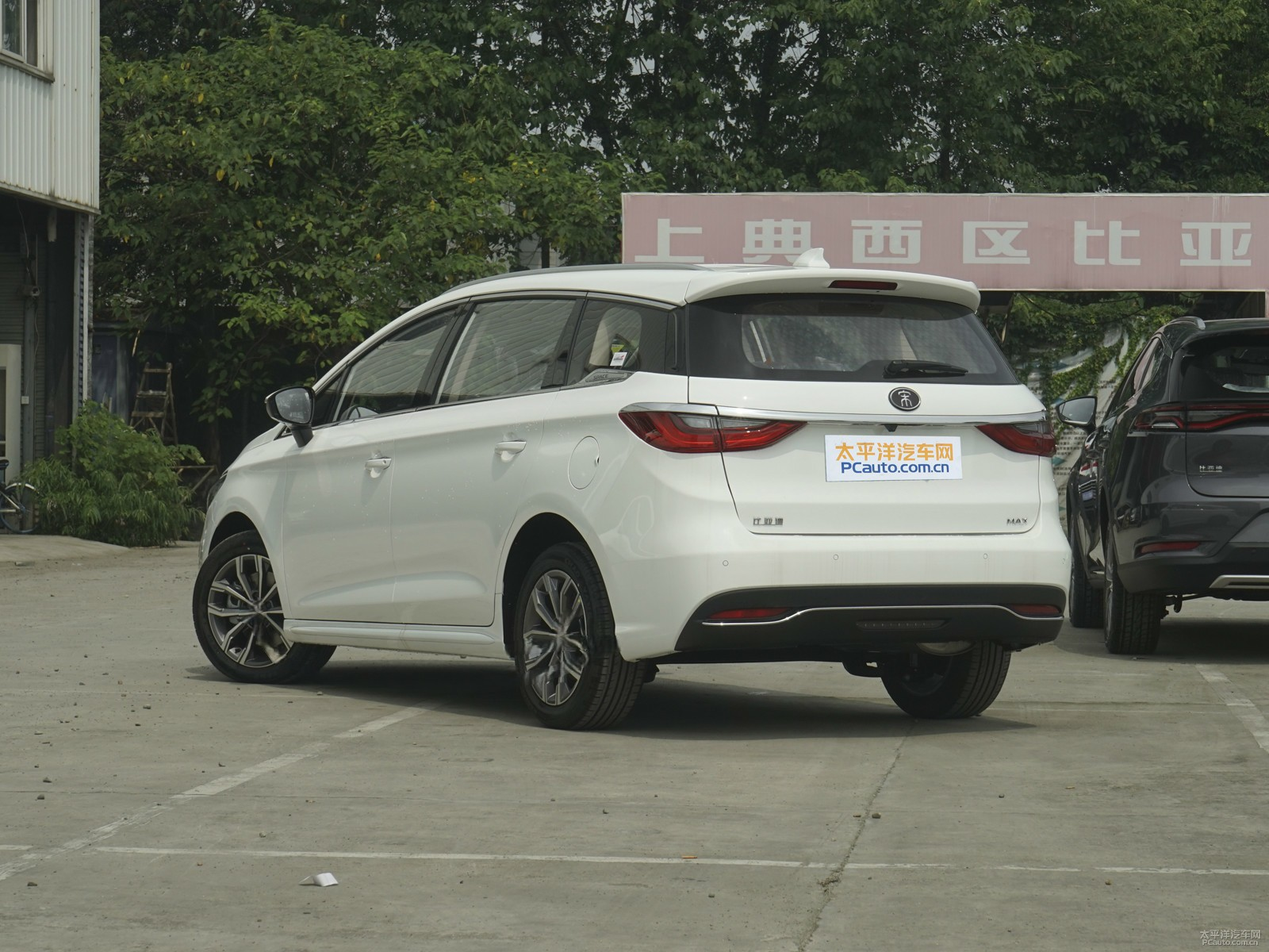BYD Song: (889, 387, 921, 411)
